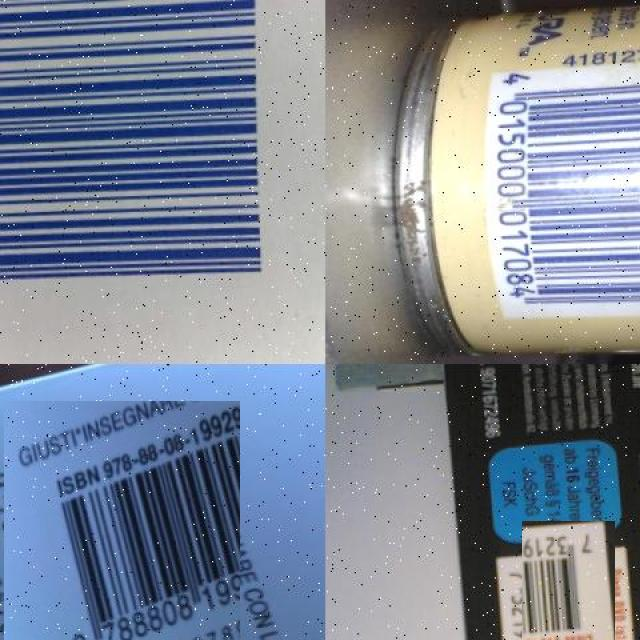Barcode: (0, 0, 284, 317), (2, 402, 242, 640), (480, 60, 640, 324), (508, 533, 627, 640)
